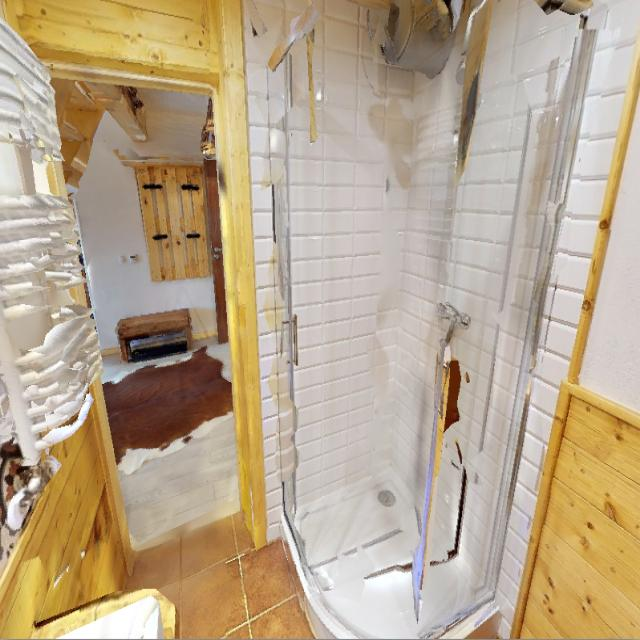door-frame: (31, 38, 268, 604)
shower: (241, 0, 562, 640)
